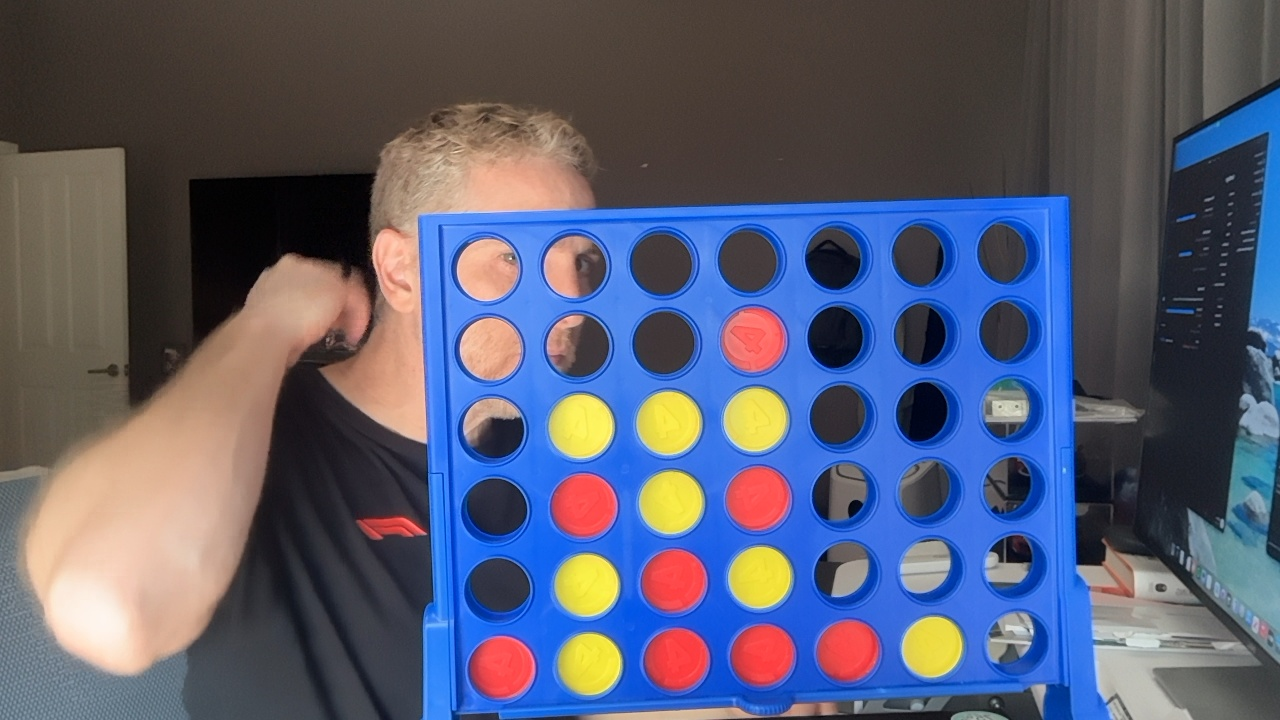red piece: (551, 473, 617, 538), (468, 636, 534, 700), (721, 307, 785, 372), (644, 628, 709, 692), (640, 549, 706, 612), (726, 466, 790, 530), (730, 624, 795, 687), (817, 620, 880, 682)
yellow piece: (548, 393, 614, 459), (636, 390, 702, 456), (639, 470, 704, 535), (723, 387, 788, 452), (554, 553, 619, 618), (557, 632, 621, 697), (728, 545, 792, 609), (902, 616, 963, 678)
